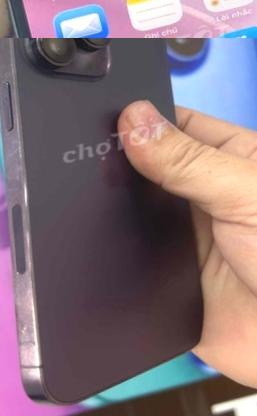scratch: (0, 263, 62, 388), (0, 38, 40, 180)
